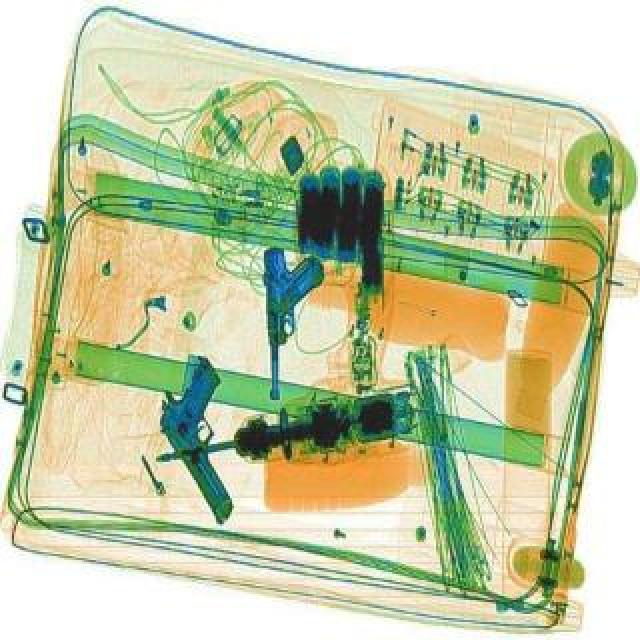gun: (134, 350, 286, 526), (260, 244, 328, 400)
